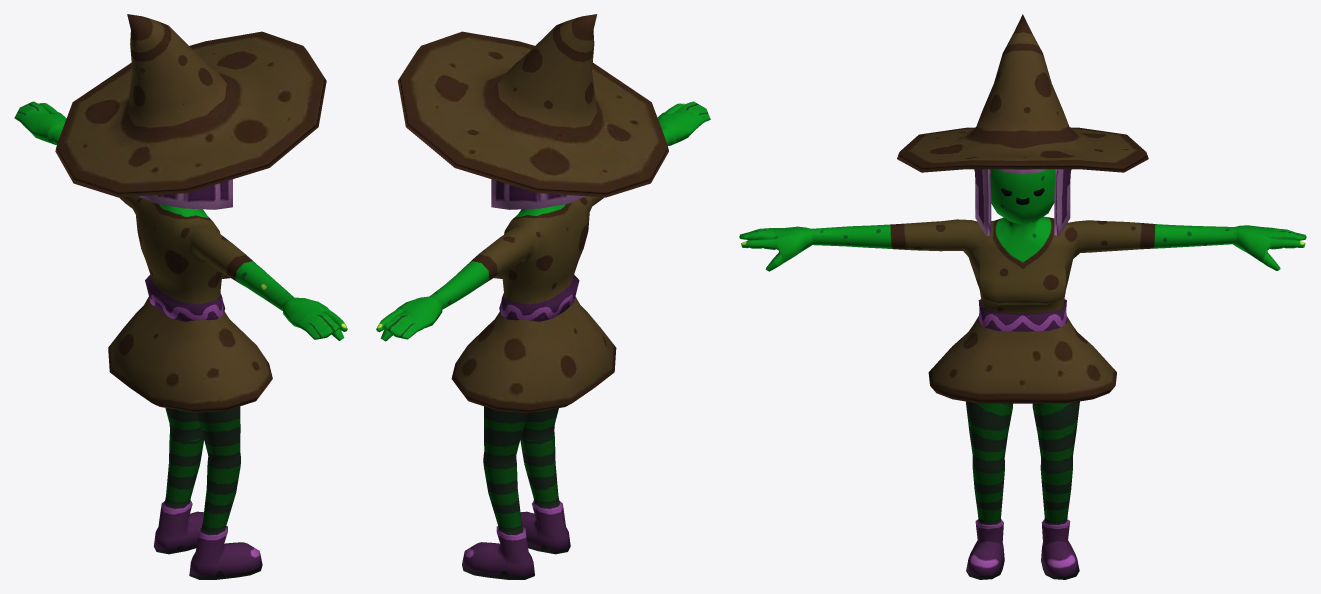
File: witch-final.glb
3 renders of one model, left to right at view 1: azimuth 30°, elevation 25°; view 2: azimuth 150°, elevation 25°; view 3: azimuth 270°, elevation 25°, orthographic. The views are drawn at different scales.
Parts seen in each view (by area): view 1: mesh_char_040; view 2: mesh_char_040; view 3: mesh_char_040.
Part boxes in pixels (x1,y1,x2,y2): mesh_char_040: [14, 14, 347, 579]; mesh_char_040: [376, 14, 710, 579]; mesh_char_040: [739, 14, 1306, 579].
Size of the model in its own units: 2.17 by 4.98 by 4.96.
Materials: 1 (1 with a texture image).
